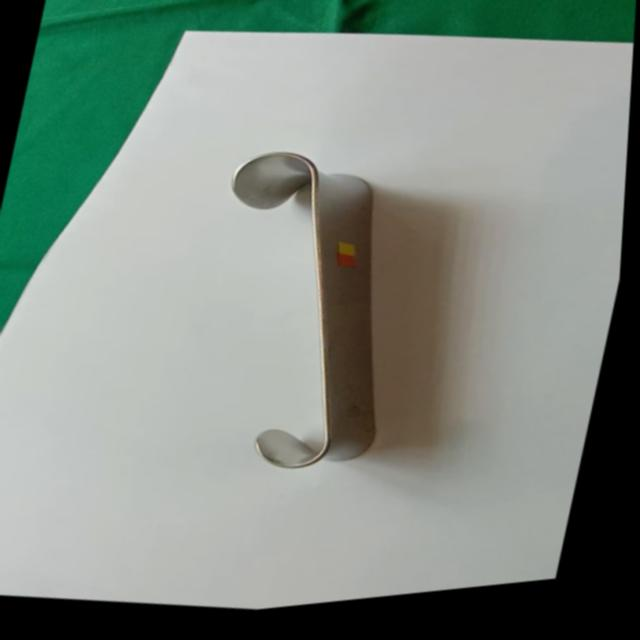CheekRetractor: (173, 134, 444, 498)
